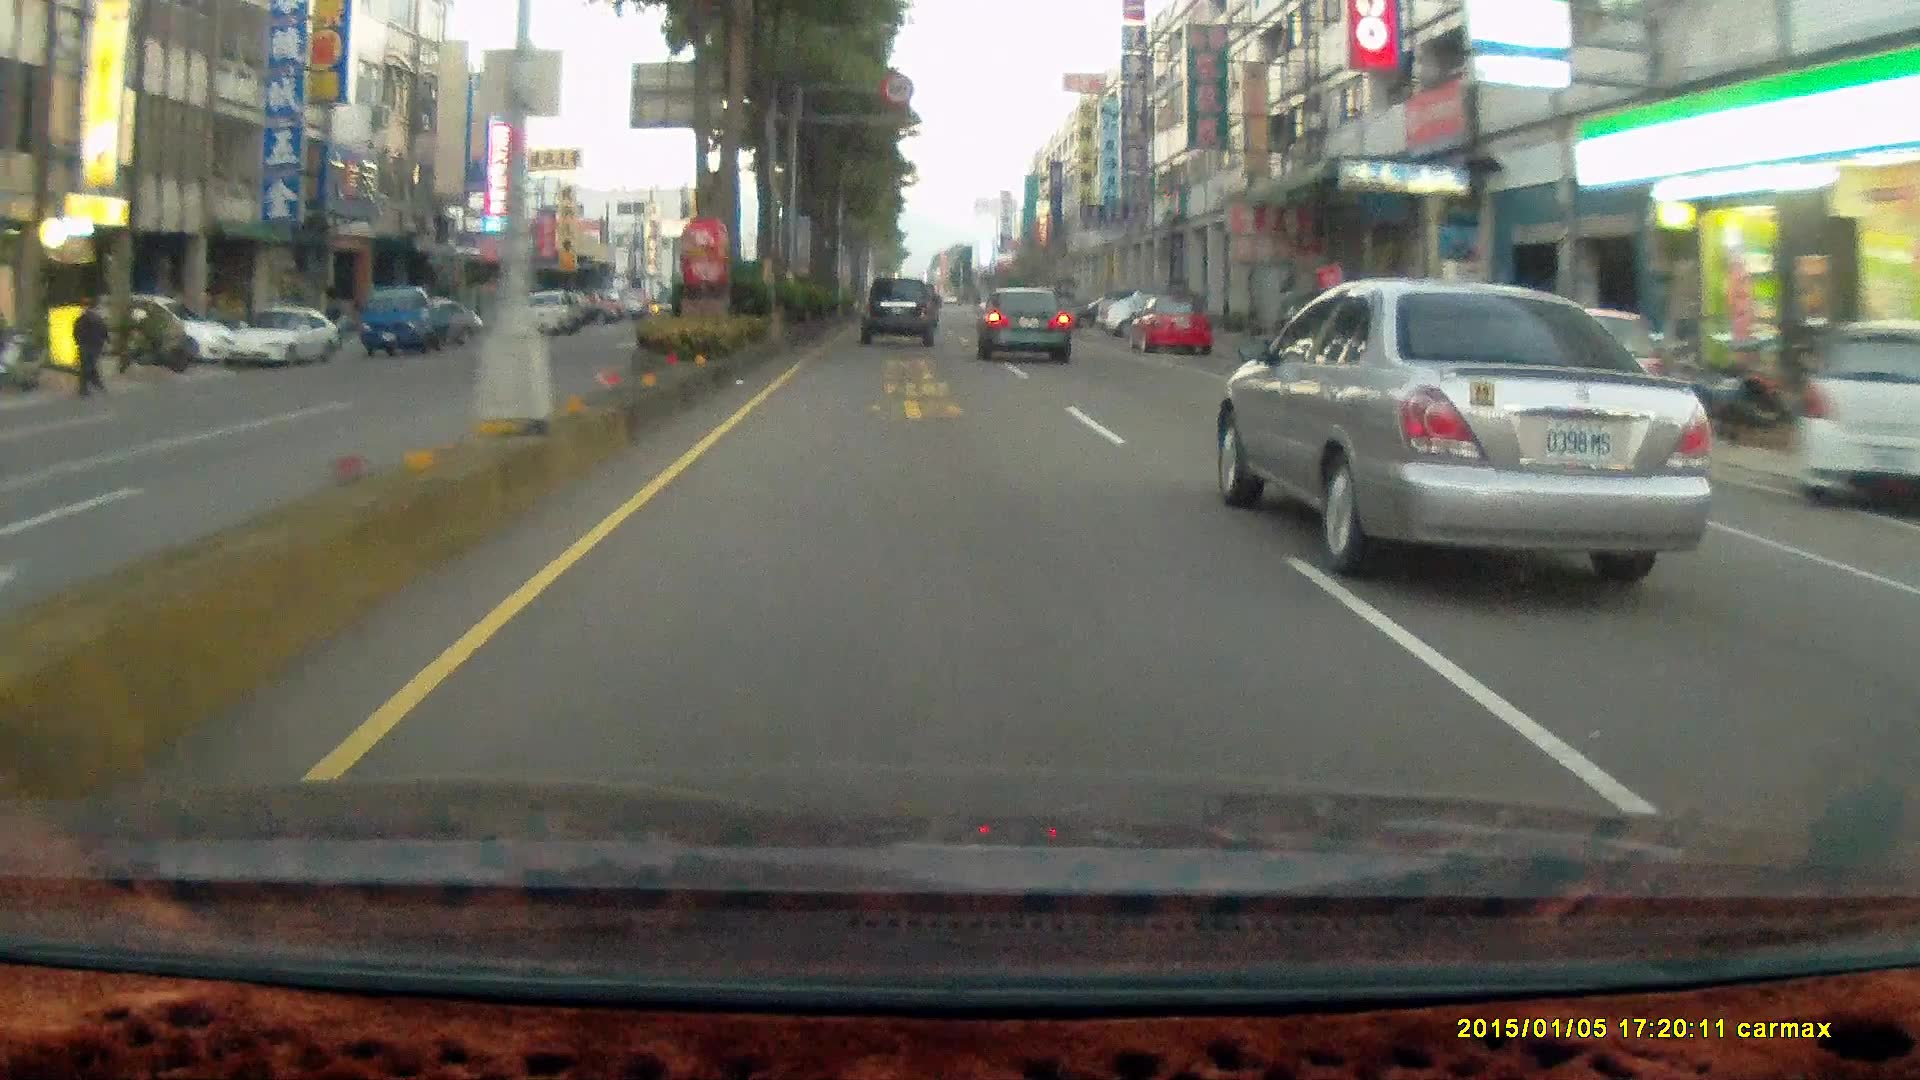pedestrian: (70, 302, 104, 399), (70, 304, 104, 401)
vehicle: (1227, 286, 1724, 578), (1488, 316, 1693, 458), (1790, 318, 1920, 515), (1306, 303, 1485, 393), (91, 296, 230, 368), (218, 306, 341, 373), (978, 300, 1075, 379), (974, 286, 1071, 363), (363, 288, 467, 356), (221, 312, 338, 373), (358, 286, 450, 357), (859, 278, 940, 351), (861, 278, 939, 348), (1130, 301, 1217, 362), (1126, 297, 1212, 358), (1095, 292, 1197, 341), (391, 297, 477, 344), (517, 289, 575, 337)
